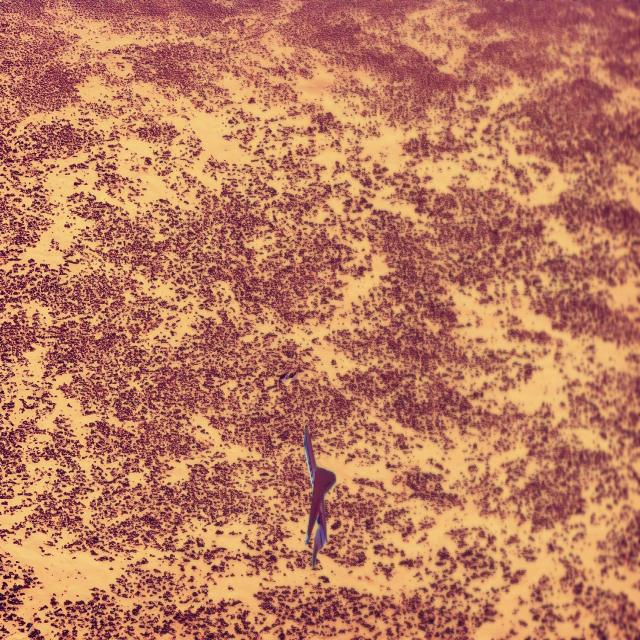airplane: (303, 425, 336, 569)
